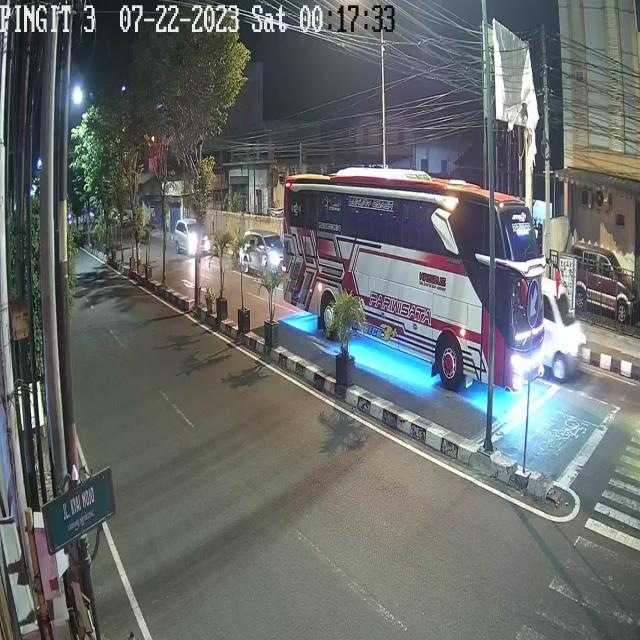bus: (282, 171, 575, 398)
car: (530, 277, 588, 389), (568, 244, 639, 330), (241, 224, 285, 280), (174, 217, 208, 259)
